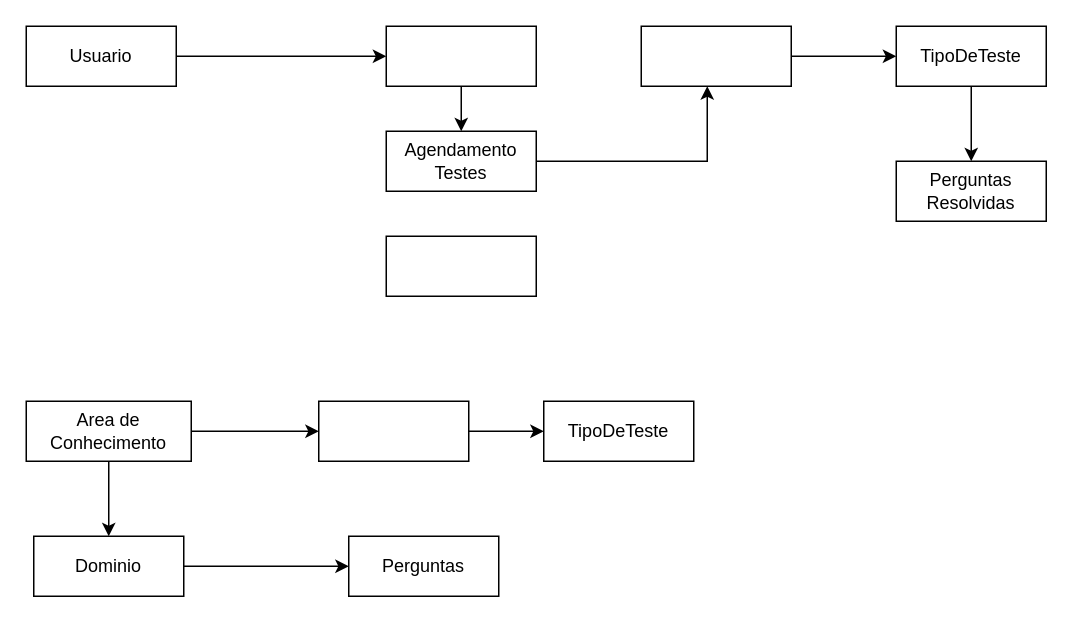
Image size: 1073x623. Some labels were removed from this diagram. Here are the shapes that lost their labels. From the top down, the centre of each, then its label:
the point at 460,55: Plano de Estudos
the point at 715,55: Histórico de Testes
the point at 460,265: Tratamento das Lacunas
the point at 393,430: Teste
